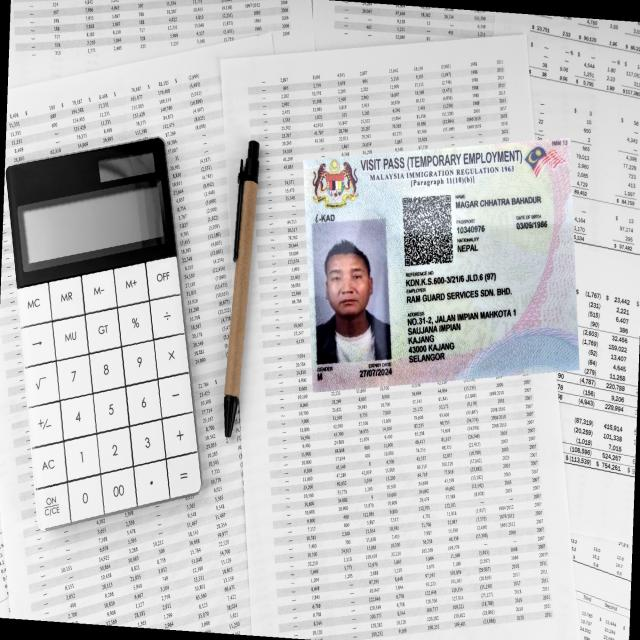ikad-temp: (303, 136, 585, 394)
